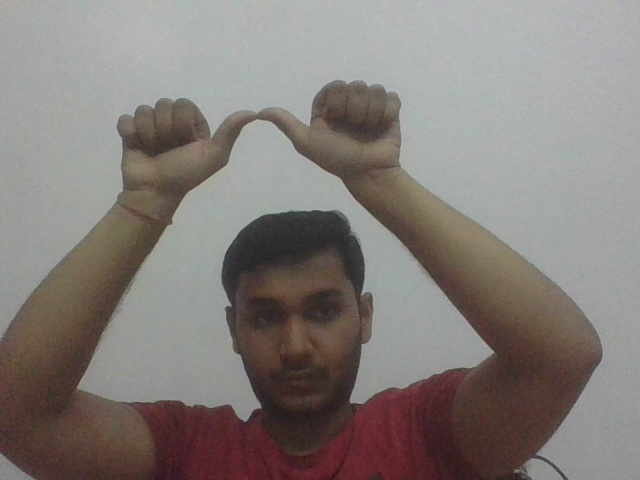A: (107, 77, 416, 182)
